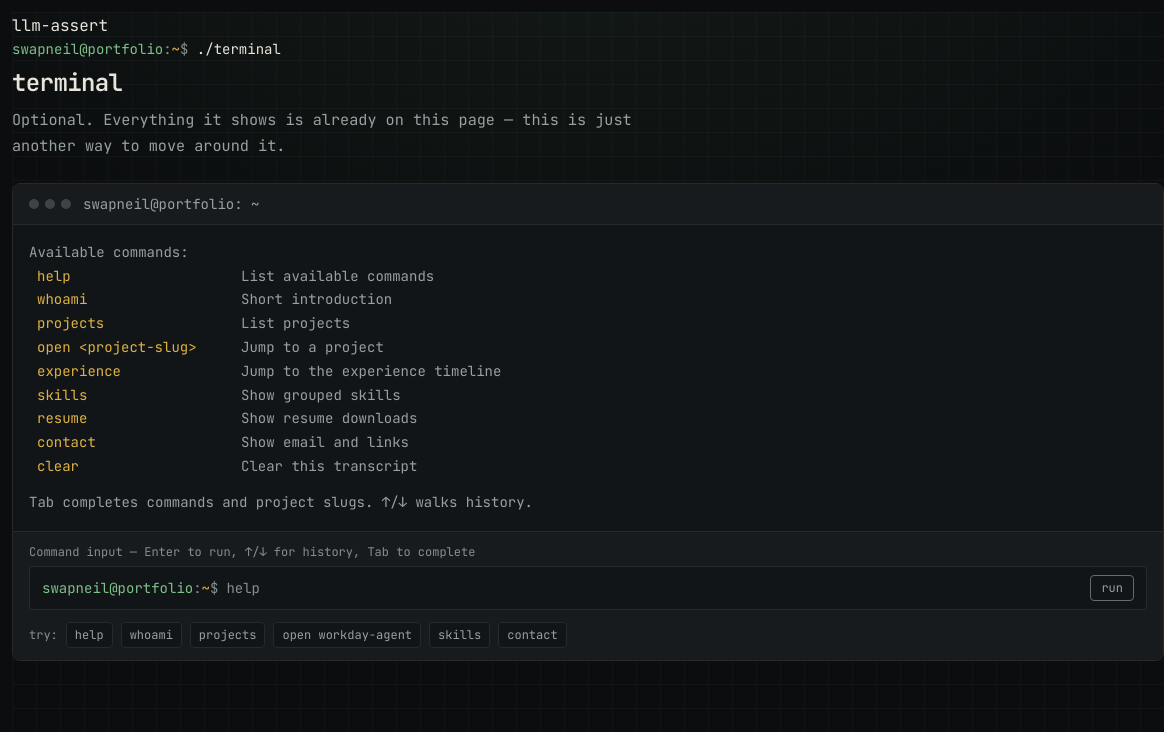
Test: TerminalPanel › scrolls to a project and focuses its heading via `open`
In the field labelled "Command input": (654, 588) [226,578,1082,598], type "open llm-assert"
Then press Enter
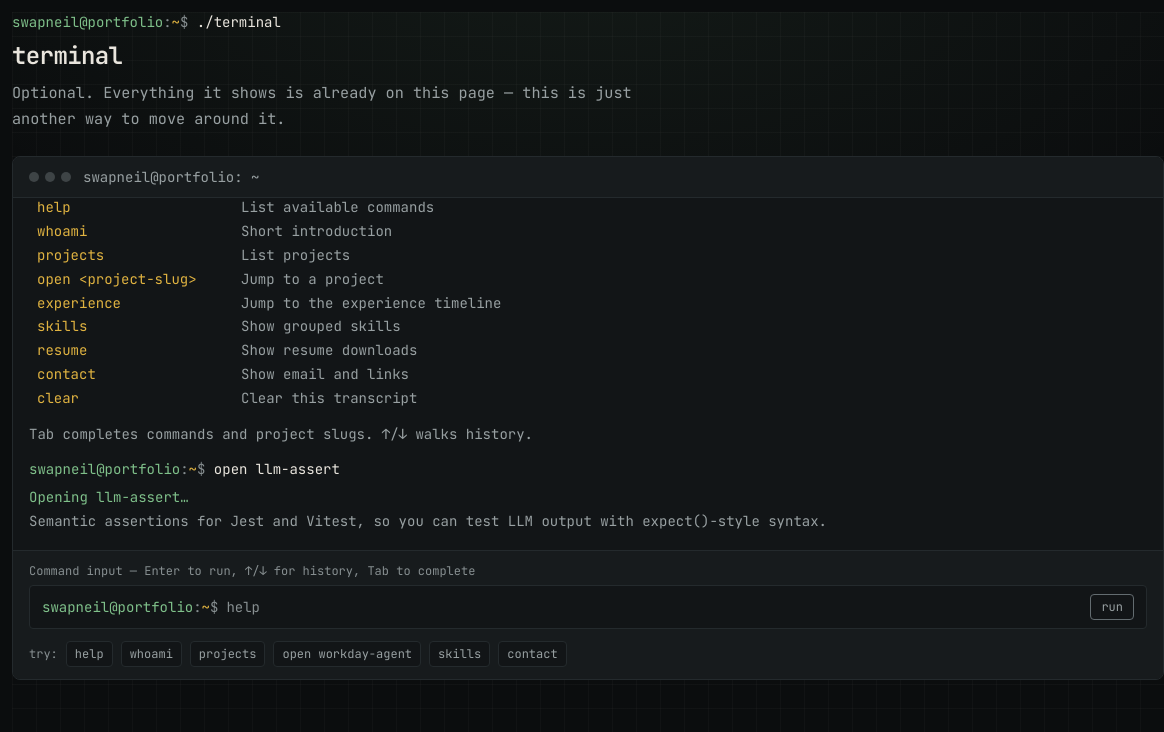
Now the text "Opening llm-assert…" is shown, box [29,488,189,506]
